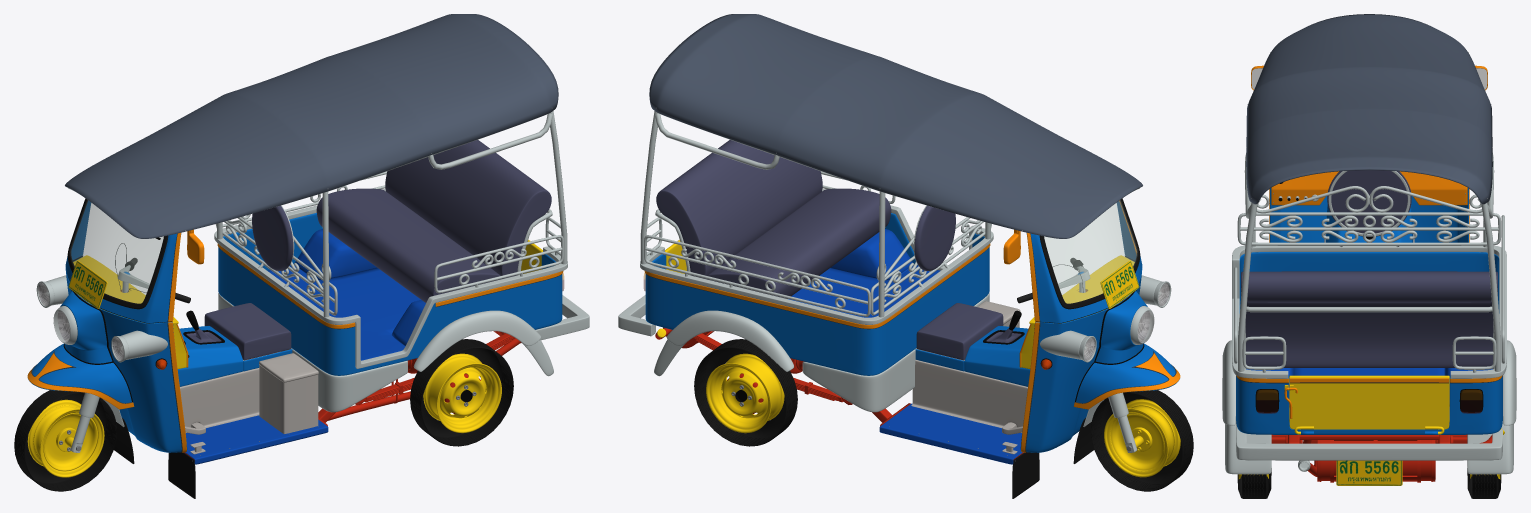
Rendered from thai_tuk-tuk_-_3d_model_pbr_real-time.glb.
3 views of the same model, side by side, from view 1: azimuth 30°, elevation 25°; view 2: azimuth 150°, elevation 25°; view 3: azimuth 270°, elevation 25° (orthographic). The views are drawn at different scales.
Visible parts, largest first — view 1: roof_60, passenger seat_49, passenger cabin_43, front body_23, passenger floor sheet _48, engine cover_20, windshield_70, passenger cabin welding_46, rim rear_59, battery box_0, rim front_58, tyre rear_68 (+22 smaller); view 2: roof_60, passenger seat_49, passenger cabin_43, engine cover_20, front body_23, windshield_70, passenger cabin welding_46, rim rear_59, passenger floor sheet _48, driver floor sheet_16, rim front_58, passenger cabin side railing_45 (+20 smaller); view 3: roof_60, passenger seat_49, passenger cabin_43, passenger cabin railing_44, boot door_6, rear bumper_54, Rear wheel arch_57, passenger cabin welding_46, driver seat backrest_18, front body_23, dashboard_12, roof pillers_61 (+12 smaller).
Part boxes in pixels (x1=…): roof_60: x1=65, y1=14, x2=558, y2=238; passenger seat_49: x1=316, y1=140, x2=551, y2=302; passenger cabin_43: x1=218, y1=213, x2=562, y2=412; front body_23: x1=65, y1=200, x2=187, y2=452; passenger floor sheet _48: x1=267, y1=229, x2=425, y2=360; engine cover_20: x1=177, y1=326, x2=292, y2=454; windshield_70: x1=70, y1=200, x2=163, y2=303; passenger cabin welding_46: x1=214, y1=188, x2=567, y2=368; rim rear_59: x1=423, y1=353, x2=501, y2=433; battery box_0: x1=259, y1=353, x2=318, y2=433; rim front_58: x1=27, y1=399, x2=104, y2=477; tyre rear_68: x1=410, y1=339, x2=513, y2=446; roof_60: x1=649, y1=14, x2=1142, y2=238; passenger seat_49: x1=656, y1=140, x2=891, y2=298; passenger cabin_43: x1=645, y1=213, x2=989, y2=412; engine cover_20: x1=911, y1=326, x2=1030, y2=454; front body_23: x1=1020, y1=201, x2=1142, y2=452; windshield_70: x1=1044, y1=200, x2=1137, y2=303; passenger cabin welding_46: x1=640, y1=188, x2=993, y2=329; rim rear_59: x1=706, y1=353, x2=784, y2=433; passenger floor sheet _48: x1=788, y1=229, x2=940, y2=317; driver floor sheet_16: x1=879, y1=403, x2=1022, y2=464; rim front_58: x1=1104, y1=399, x2=1180, y2=477; passenger cabin side railing_45: x1=644, y1=171, x2=895, y2=316; roof_60: x1=1246, y1=14, x2=1492, y2=204; passenger seat_49: x1=1241, y1=271, x2=1497, y2=367; passenger cabin_43: x1=1236, y1=252, x2=1502, y2=434; passenger cabin railing_44: x1=1237, y1=186, x2=1501, y2=372; boot door_6: x1=1289, y1=375, x2=1449, y2=429; rear bumper_54: x1=1236, y1=421, x2=1502, y2=460; Rear wheel arch_57: x1=1222, y1=340, x2=1516, y2=474; passenger cabin welding_46: x1=1232, y1=245, x2=1506, y2=383; driver seat backrest_18: x1=1327, y1=170, x2=1411, y2=236; front body_23: x1=1270, y1=188, x2=1468, y2=242; dashboard_12: x1=1271, y1=171, x2=1467, y2=205; roof pillers_61: x1=1238, y1=153, x2=1500, y2=371.
Bounding box in the file's own units: 3.03 × 1.95 × 1.37.
Materials: 23 (4 with a texture image).
